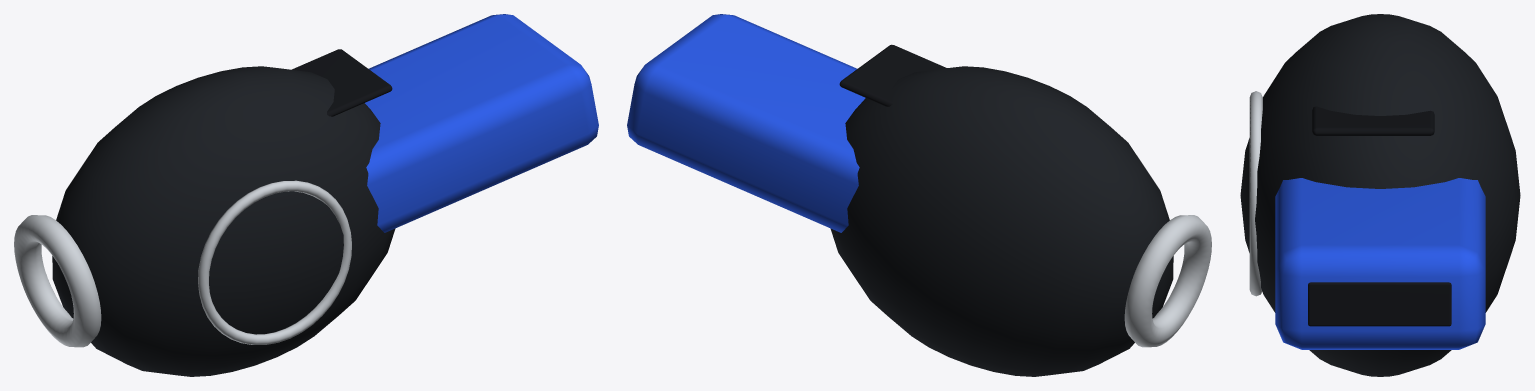
The model's file is coach.glb.
3 renders of one model, left to right at view 1: azimuth 30°, elevation 25°; view 2: azimuth 150°, elevation 25°; view 3: azimuth 270°, elevation 25°, orthographic. The views are drawn at different scales.
Parts seen in each view (by area): view 1: SM_WhistleChamber, SM_Mouthpiece, SM_ModelGeometry_LiftSilver, SM_ModelGeometry_LiftInk; view 2: SM_WhistleChamber, SM_Mouthpiece, SM_ModelGeometry_LiftSilver, SM_ModelGeometry_LiftInk; view 3: SM_WhistleChamber, SM_Mouthpiece, SM_ModelGeometry_LiftInk, SM_ModelGeometry_LiftSilver.
Part boxes in pixels (x1,y1,x2,y2): SM_WhistleChamber: (52,66,395,376); SM_Mouthpiece: (365,14,598,232); SM_ModelGeometry_LiftSilver: (14,180,351,347); SM_ModelGeometry_LiftInk: (292,49,392,116); SM_WhistleChamber: (830,66,1173,376); SM_Mouthpiece: (627,14,865,232); SM_ModelGeometry_LiftSilver: (1124,215,1211,347); SM_ModelGeometry_LiftInk: (839,44,946,106); SM_WhistleChamber: (1240,14,1520,376); SM_Mouthpiece: (1275,178,1485,349); SM_ModelGeometry_LiftInk: (1308,106,1451,326); SM_ModelGeometry_LiftSilver: (1249,91,1262,296).
Size of the model in its own units: 2 by 1.02 by 0.7902.
